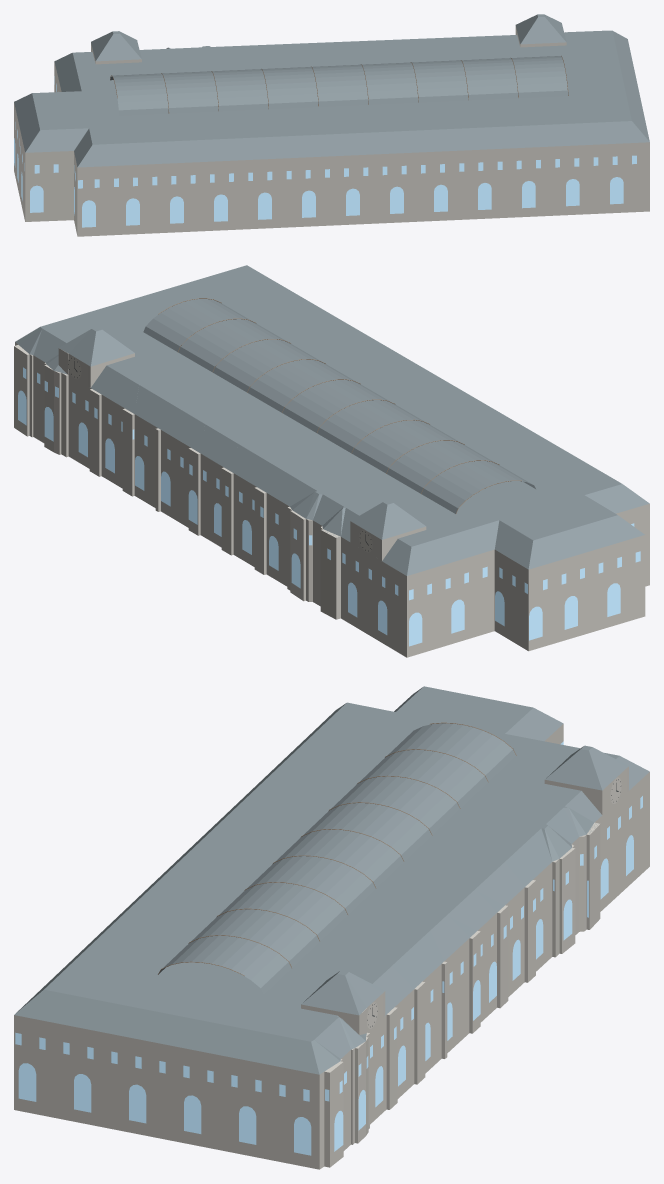
3 views of the same model, one above another, from view 1: azimuth 30°, elevation 25°; view 2: azimuth 150°, elevation 25°; view 3: azimuth 270°, elevation 25° (orthographic). The views are drawn at different scales.
Parts seen in each view (by area): view 1: roof, stone, window, metal; view 2: roof, stone, window, metal; view 3: roof, stone, window, metal.
Part boxes in pixels (<box>): roof: <box>14,14,649,167</box>; stone: <box>14,26,649,236</box>; window: <box>14,76,636,227</box>; metal: <box>110,56,568,113</box>; roof: <box>15,265,649,575</box>; stone: <box>14,342,649,657</box>; window: <box>18,367,640,646</box>; metal: <box>158,298,521,513</box>; roof: <box>14,686,649,1074</box>; stone: <box>14,724,649,1169</box>; window: <box>15,741,642,1155</box>; metal: <box>158,722,516,975</box>.
Bounding box in the file's own units: 198 × 35 × 140.
